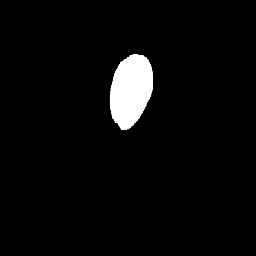mass: (117, 58, 150, 125)
